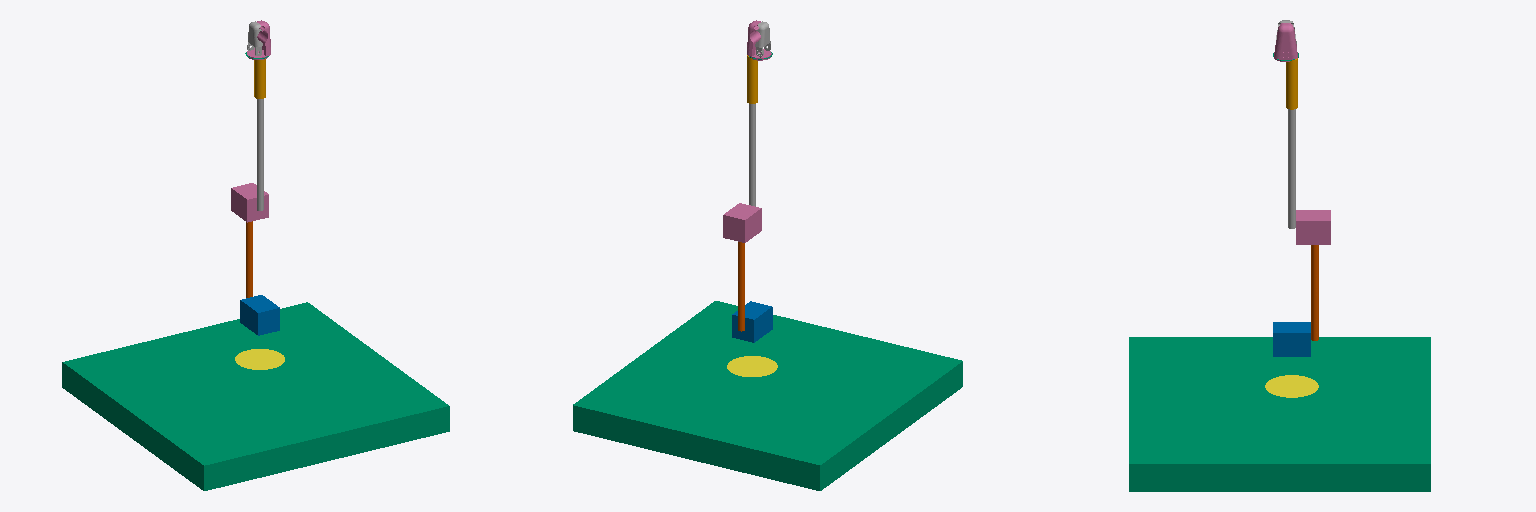
URDF robot description (arm):
<?xml version="1.0" ?>
<!-- =================================================================================== -->
<!-- |    This document was autogenerated by xacro from arm.urdf.xacro                 | -->
<!-- |    EDITING THIS FILE BY HAND IS NOT RECOMMENDED                                 | -->
<!-- =================================================================================== -->
<robot name="arm">
  <link name="world"/>
  <link name="flange"/>
  <joint name="fix_flange" type="fixed">
    <parent link="world"/>
    <child link="flange"/>
  </joint>

    <joint name="fix_colision" type="fixed">
        <parent link="world" />
        <child link="kalman_box" />        
    </joint>

    <link name="kalman_box">
        <visual>
            <geometry>
                <!-- <mesh filename="package://kalman_arm_moveit_config/meshes/gripper/gripper_bottom.stl" scale="0.001 0.001 0.001"/> -->
                <box size="1.0 1.0 0.1"/>
            </geometry>
        <origin rpy="0 0 0" xyz="-0.04 -0.04 -0.12"/>
        <material name="white"/>1
        </visual>
        <collision>
            <geometry>
                <box size="1.0 1.0 0.1"/>

            </geometry>
        <origin rpy="0 0 0" xyz="-0.04 -0.04 -0.12"/>
        </collision>
    </link>

    
  <link name="arm_link">
    <visual>
      <geometry>
        <cylinder length="0" radius="0.089"/>
      </geometry>
      <origin rpy="0 0 0" xyz="0 0 0.0"/>
    </visual>
    <collision>
      <geometry>
        <cylinder length="0" radius="0.089"/>
      </geometry>
      <origin rpy="0 0 0" xyz="0 0 0.0"/>
    </collision>
    <inertial>
      <mass value="0.1"/>
      <inertia ixx="0.03" ixy="0.0" ixz="0.0" iyy="0.03" iyz="0.0" izz="0.03"/>
    </inertial>
  </link>
  <link name="link1">
    <visual>
      <geometry>
        <box size="0.1275 0.089 0.089"/>
      </geometry>
      <origin rpy="0 0 0" xyz="0.0 0 0"/>
      <material name="white"/>
    </visual>
    <collision>
      <geometry>
        <box size="0.1275 0.089 0.089"/>
      </geometry>
      <origin rpy="0 0 0" xyz="0.0 0 0"/>
    </collision>
    <inertial>
      <mass value="0.1"/>
      <inertia ixx="0.03" ixy="0.0" ixz="0.0" iyy="0.03" iyz="0.0" izz="0.03"/>
    </inertial>
  </link>
  <joint name="joint_1" type="revolute">
    <axis xyz="0 0 1"/>
    <limit effort="1000.0" lower="-6.2815926" upper="6.2815926" velocity="0.5"/>
    <parent link="arm_link"/>
    <child link="link1"/>
    <origin rpy="0 0 1.570796" xyz="0 0 0.172"/>
  </joint>
  <link name="link2">
    <visual>
      <geometry>
        <cylinder length="0.41" radius="0.0125"/>
      </geometry>
      <origin rpy="0 0 0" xyz="0.076250 0 0.205"/>
      <material name="white"/>
    </visual>
    <collision>
      <geometry>
        <cylinder length="0.41" radius="0.0125"/>
      </geometry>
      <origin rpy="0 0 0" xyz="0.076250 0 0.205"/>
    </collision>
    <inertial>
      <mass value="0.1"/>
      <inertia ixx="0.03" ixy="0.0" ixz="0.0" iyy="0.03" iyz="0.0" izz="0.03"/>
    </inertial>
  </link>
  <joint name="joint_2" type="revolute">
    <axis xyz="1 0 0"/>
    <limit effort="1000.0" lower="-3.1415926" upper="3.1415926" velocity="0.5"/>
    <parent link="link1"/>
    <child link="link2"/>
    <origin xyz="0 0 0"/>
  </joint>
  <link name="link3">
    <visual>
      <geometry>
        <box size="0.115 0.089 0.089"/>
      </geometry>
      <origin rpy="0 0 0" xyz="0.07 0 0"/>
      <material name="white"/>
    </visual>
    <collision>
      <geometry>
        <box size="0.115 0.089 0.089"/>
      </geometry>
      <origin rpy="0 0 0" xyz="0.07 0 0"/>
    </collision>
    <inertial>
      <mass value="0.1"/>
      <inertia ixx="0.03" ixy="0.0" ixz="0.0" iyy="0.03" iyz="0.0" izz="0.03"/>
    </inertial>
  </link>
  <joint name="joint_3" type="revolute">
    <axis xyz="1 0 0"/>
    <limit effort="1000.0" lower="-2.88" upper="2.88" velocity="0.5"/>
    <parent link="link2"/>
    <child link="link3"/>
    <origin xyz="0 0 0.41"/>
  </joint>
  <link name="link4">
    <visual>
      <geometry>
        <cylinder length="0.44" radius="0.0125"/>
      </geometry>
      <origin rpy="0 0 0" xyz="0 0 0.22"/>
      <material name="white"/>
    </visual>
    <collision>
      <geometry>
        <cylinder length="0.44" radius="0.0125"/>
      </geometry>
      <origin rpy="0 0 0" xyz="0 0 0.22"/>
    </collision>
    <inertial>
      <mass value="0.1"/>
      <inertia ixx="0.03" ixy="0.0" ixz="0.0" iyy="0.03" iyz="0.0" izz="0.03"/>
    </inertial>
  </link>
  <joint name="joint_4" type="revolute">
    <axis xyz="0 0 1"/>
    <limit effort="1000.0" lower="-6.4" upper="6.4" velocity="0.5"/>
    <parent link="link3"/>
    <child link="link4"/>
  </joint>
  <link name="link5">
    <visual>
      <geometry>
        <cylinder length="0.18" radius="0.02"/>
      </geometry>
      <origin rpy="0 0 0" xyz="0 0 0"/>
      <material name="white"/>
    </visual>
    <collision>
      <geometry>
        <cylinder length="0.18" radius="0.02"/>
      </geometry>
      <origin rpy="0 0 0" xyz="0 0 0"/>
    </collision>
    <inertial>
      <mass value="0.1"/>
      <inertia ixx="0.03" ixy="0.0" ixz="0.0" iyy="0.03" iyz="0.0" izz="0.03"/>
    </inertial>
  </link>
  <joint name="joint_5" type="revolute">
    <axis xyz="1 0 0"/>
    <!-- 100 stopni -->
    <limit effort="1000.0" lower="-1.75" upper="1.75" velocity="0.5"/>
    <parent link="link5"/>
    <child link="link5_ext"/>
    <origin rpy="0 0 0" xyz="0 0 0.09"/>
  </joint>
  <link name="link5_ext">
    <visual>
      <geometry>
        <cylinder length="0.001" radius="0.001"/>
      </geometry>
      <origin rpy="0 0 0" xyz="0 0 0"/>
      <material name="white"/>
    </visual>
    <collision>
      <geometry>
        <cylinder length="0.001" radius="0.001"/>
      </geometry>
      <origin rpy="0 0 0" xyz="0 0 0"/>
    </collision>
    <inertial>
      <mass value="0.1"/>
      <inertia ixx="0.03" ixy="0.0" ixz="0.0" iyy="0.03" iyz="0.0" izz="0.03"/>
    </inertial>
  </link>
  <link name="link6">
    <visual>
      <geometry>
        <cylinder length="0.001" radius="0.0445"/>
      </geometry>
      <origin rpy="0 0 0" xyz="0 0 -0.0"/>
      <material name="white"/>
    </visual>
    <collision>
      <geometry>
        <cylinder length="0.01" radius="0.0445"/>
      </geometry>
      <origin rpy="0 0 0" xyz="0 0 -0.0"/>
    </collision>
    <inertial>
      <mass value="0.1"/>
      <inertia ixx="0.03" ixy="0.0" ixz="0.0" iyy="0.03" iyz="0.0" izz="0.03"/>
    </inertial>
  </link>
  <link name="link6_ext">

    </link>
  <link name="ee">
    </link>
  <link name="link6_to_gripper">

    </link>
  <joint name="joint_5_fix" type="fixed">
    <parent link="link4"/>
    <child link="link5"/>
    <origin rpy="0 0 0" xyz="0 0 0.53"/>
  </joint>
  <joint name="joint_6_fix" type="fixed">
    <parent link="link6"/>
    <child link="link6_ext"/>
    <origin rpy="-1.57 -1.57 0" xyz="0 0 0"/>
  </joint>
  <joint name="joint_6" type="revolute">
    <axis xyz="0 0 1"/>
    <limit effort="1000.0" lower="-3.4032" upper="3.4032" velocity="0.75"/>
    <parent link="link5_ext"/>
    <child link="link6"/>
    <!-- <origin rpy="0 0 0" xyz="0.15 0.20 0.0"/> -->
    <origin rpy="0 0 0" xyz="-0.02 0.02 0.0"/>
  </joint>
  <joint name="joint_6_to_gripper" type="fixed">
    <parent link="link6_ext"/>
    <child link="link6_to_gripper"/>
    <origin rpy="1.57 0 0" xyz="0 0 0"/>
  </joint>
  <link name="gripper_fixed">
    <visual>
      <geometry>
        <mesh filename="package://kalman_arm_moveit_config/meshes/gripper/gripper_bottom.stl" scale="0.001 0.001 0.001"/>
      </geometry>
      <origin rpy="0 0 0" xyz="-0.04 -0.04 -0.12"/>
      <material name="white"/>
    </visual>
    <collision>
      <geometry>
        <mesh filename="package://kalman_arm_moveit_config/meshes/gripper/gripper_bottom.stl" scale="0.001 0.001 0.001"/>
      </geometry>
      <origin rpy="0 0 0" xyz="-0.04 -0.04 -0.12"/>
    </collision>
    <inertial>
      <mass value="0.1"/>
      <inertia ixx="0.03" ixy="0.0" ixz="0.0" iyy="0.03" iyz="0.0" izz="0.03"/>
    </inertial>
  </link>
  <joint name="gripper_fixed_joint" type="fixed">
    <parent link="link6_to_gripper"/>
    <child link="gripper_fixed"/>
    <origin rpy="0 4.71238898 0" xyz="0 0 0"/>
  </joint>
  <joint name="ee_fixed_joint" type="fixed">
    <parent link="link6_ext"/>
    <child link="ee"/>
    <origin rpy="0 0 0" xyz="0.2 0 0"/>
  </joint>
  <link name="gripper_moving">
    <visual>
      <geometry>
        <mesh filename="package://kalman_arm_moveit_config/meshes/gripper/gripper_top.stl" scale="0.001 0.001 0.001"/>
      </geometry>
      <material name="white"/>
      <origin rpy="0 0 0" xyz="-0.014 -0.12 -0.035"/>
    </visual>
    <collision>
      <geometry>
        <mesh filename="package://kalman_arm_moveit_config/meshes/gripper/gripper_top.stl" scale="0.001 0.001 0.001"/>
      </geometry>
      <origin rpy="0 0 0" xyz="-0.014 -0.12 -0.035"/>
    </collision>
    <inertial>
      <mass value="0.1"/>
      <inertia ixx="0.03" ixy="0.0" ixz="0.0" iyy="0.03" iyz="0.0" izz="0.03"/>
    </inertial>
  </link>
  <joint name="gripper_moving_joint" type="revolute">
    <parent link="link6_to_gripper"/>
    <child link="gripper_moving"/>
    <axis xyz="0 0 1"/>
    <limit effort="1000.0" lower="-0.1" upper="1.57" velocity="0.5"/>
    <origin rpy="0 0 1.57079633" xyz="0.0 0.014 0"/>
  </joint>
  <joint name="fix" type="fixed">
    <parent link="flange"/>
    <child link="arm_link"/>
    <origin rpy="0 0 0"/>
  </joint>
  <transmission name="trans_joint_1">
    <type>transmission_interface/SimpleTransmission</type>
    <joint name="joint_1">
      <hardwareInterface>hardware_interface/PositionJointInterface</hardwareInterface>
    </joint>
    <actuator name="joint_1_motor">
      <hardwareInterface>hardware_interface/PositionJointInterface</hardwareInterface>
      <mechanicalReduction>1</mechanicalReduction>
    </actuator>
  </transmission>
  <transmission name="trans_joint_2">
    <type>transmission_interface/SimpleTransmission</type>
    <joint name="joint_2">
      <hardwareInterface>hardware_interface/PositionJointInterface</hardwareInterface>
    </joint>
    <actuator name="joint_2_motor">
      <hardwareInterface>hardware_interface/PositionJointInterface</hardwareInterface>
      <mechanicalReduction>1</mechanicalReduction>
    </actuator>
  </transmission>
  <transmission name="trans_joint_3">
    <type>transmission_interface/SimpleTransmission</type>
    <joint name="joint_3">
      <hardwareInterface>hardware_interface/PositionJointInterface</hardwareInterface>
    </joint>
    <actuator name="joint_3_motor">
      <hardwareInterface>hardware_interface/PositionJointInterface</hardwareInterface>
      <mechanicalReduction>1</mechanicalReduction>
    </actuator>
  </transmission>
  <transmission name="trans_joint_4">
    <type>transmission_interface/SimpleTransmission</type>
    <joint name="joint_4">
      <hardwareInterface>hardware_interface/PositionJointInterface</hardwareInterface>
    </joint>
    <actuator name="joint_4_motor">
      <hardwareInterface>hardware_interface/PositionJointInterface</hardwareInterface>
      <mechanicalReduction>1</mechanicalReduction>
    </actuator>
  </transmission>
  <transmission name="trans_joint_5">
    <type>transmission_interface/SimpleTransmission</type>
    <joint name="joint_5">
      <hardwareInterface>hardware_interface/PositionJointInterface</hardwareInterface>
    </joint>
    <actuator name="joint_5_motor">
      <hardwareInterface>hardware_interface/PositionJointInterface</hardwareInterface>
      <mechanicalReduction>1</mechanicalReduction>
    </actuator>
  </transmission>
  <transmission name="trans_joint_6">
    <type>transmission_interface/SimpleTransmission</type>
    <joint name="joint_6">
      <hardwareInterface>hardware_interface/PositionJointInterface</hardwareInterface>
    </joint>
    <actuator name="joint_6_motor">
      <hardwareInterface>hardware_interface/PositionJointInterface</hardwareInterface>
      <mechanicalReduction>1</mechanicalReduction>
    </actuator>
  </transmission>
  <transmission name="trans_gripper">
    <type>transmission_interface/SimpleTransmission</type>
    <joint name="gripper_moving_joint">
      <hardwareInterface>hardware_interface/PositionJointInterface</hardwareInterface>
    </joint>
    <actuator name="gripper_motor">
      <hardwareInterface>hardware_interface/PositionJointInterface</hardwareInterface>
      <mechanicalReduction>1</mechanicalReduction>
    </actuator>
  </transmission>
  <gazebo>
    <plugin filename="libgazebo_ros_control.so" name="gazebo_ros_control">
      <robotNamespace>/</robotNamespace>
    </plugin>
  </gazebo>
  <!-- <xacro:include filename="$(find kalman_arm_moveit_config)/urdf/gripper.urdf.xacro" /> -->
  <ros2_control name="kalman_arm" type="system">
    <hardware>
      <plugin>kalman_arm_controller/ArmSystem</plugin>
    </hardware>
    <joint name="joint_1">
      <command_interface name="position">
        <param name="min">{-2*pi}</param>
        <param name="max">{2*pi}</param>
      </command_interface>
      <command_interface name="velocity">
        <param name="min">-3.15</param>
        <param name="max">3.15</param>
      </command_interface>
      <state_interface name="position">
        <param name="initial_value">0.0</param>
      </state_interface>
      <state_interface name="velocity"/>
    </joint>
    <joint name="joint_2">
      <command_interface name="position">
        <param name="min">{-2*pi}</param>
        <param name="max">{2*pi}</param>
      </command_interface>
      <command_interface name="velocity">
        <param name="min">-3.15</param>
        <param name="max">3.15</param>
      </command_interface>
      <state_interface name="position">
        <param name="initial_value">0.0</param>
      </state_interface>
      <state_interface name="velocity"/>
    </joint>
    <joint name="joint_3">
      <command_interface name="position">
        <param name="min">{-pi}</param>
        <param name="max">{pi}</param>
      </command_interface>
      <command_interface name="velocity">
        <param name="min">-3.15</param>
        <param name="max">3.15</param>
      </command_interface>
      <state_interface name="position">
        <param name="initial_value">0.0</param>
      </state_interface>
      <state_interface name="velocity"/>
    </joint>
    <joint name="joint_4">
      <command_interface name="position">
        <param name="min">{-2*pi}</param>
        <param name="max">{2*pi}</param>
      </command_interface>
      <command_interface name="velocity">
        <param name="min">-3.2</param>
        <param name="max">3.2</param>
      </command_interface>
      <state_interface name="position">
        <param name="initial_value">0.0</param>
      </state_interface>
      <state_interface name="velocity"/>
    </joint>
    <joint name="joint_5">
      <command_interface name="position">
        <param name="min">{-2*pi}</param>
        <param name="max">{2*pi}</param>
      </command_interface>
      <command_interface name="velocity">
        <param name="min">-3.2</param>
        <param name="max">3.2</param>
      </command_interface>
      <state_interface name="position">
        <param name="initial_value">0.0</param>
      </state_interface>
      <state_interface name="velocity"/>
    </joint>
    <joint name="joint_6">
      <command_interface name="position">
        <param name="min">{-2*pi}</param>
        <param name="max">{2*pi}</param>
      </command_interface>
      <command_interface name="velocity">
        <param name="min">-3.2</param>
        <param name="max">3.2</param>
      </command_interface>
      <state_interface name="position">
        <param name="initial_value">0.0</param>
      </state_interface>
      <state_interface name="velocity"/>
    </joint>
    <joint name="gripper_moving_joint">
      <command_interface name="position">
        <param name="min">{-2*pi}</param>
        <param name="max">{2*pi}</param>
      </command_interface>
      <command_interface name="velocity">
        <param name="min">-3.2</param>
        <param name="max">3.2</param>
      </command_interface>
      <state_interface name="position">
        <param name="initial_value">0.0</param>
      </state_interface>
      <state_interface name="velocity"/>
    </joint>
    <!-- <sensor name="tcp_fts_sensor">
        <state_interface name="force.x"/>
        <state_interface name="force.y"/>
        <state_interface name="force.z"/>
        <state_interface name="torque.x"/>
        <state_interface name="torque.y"/>
        <state_interface name="torque.z"/>
      </sensor> -->
  </ros2_control>
</robot>

--- Render facts (derived) ---
The picture shows the robot from 3 angles, left to right: view 1: azimuth 30°, elevation 25°; view 2: azimuth 150°, elevation 25°; view 3: azimuth 270°, elevation 25°; orthographic projection.
Robot: arm — 16 links, 15 joints (7 revolute, 8 fixed); root link world; default pose: every joint at zero.
Links seen in each view (by area): view 1: kalman_box, link1, link3, arm_link, link4, link2; view 2: kalman_box, link3, link1, arm_link, link4, link2; view 3: kalman_box, link1, link3, arm_link, link4, link2, gripper_fixed, link5.
Boxes of the visible links, <box> form: kalman_box: <box>62,302,449,490</box>; link1: <box>240,295,279,335</box>; link3: <box>231,183,268,222</box>; arm_link: <box>235,349,284,369</box>; link4: <box>257,99,263,210</box>; link2: <box>246,221,252,297</box>; kalman_box: <box>573,301,962,490</box>; link3: <box>723,203,761,242</box>; link1: <box>732,301,772,342</box>; arm_link: <box>727,356,777,376</box>; link4: <box>749,104,755,206</box>; link2: <box>738,242,744,331</box>; kalman_box: <box>1129,337,1430,491</box>; link1: <box>1273,322,1310,356</box>; link3: <box>1296,210,1330,244</box>; arm_link: <box>1265,375,1318,397</box>; link4: <box>1288,109,1295,228</box>; link2: <box>1311,245,1318,340</box>; gripper_fixed: <box>1274,23,1297,61</box>; link5: <box>1286,58,1297,109</box>.
Bounding box of the posed robot: 1 × 1 × 1.49 m (x, y, z).
Meshes: 2 distinct files referenced, 2 mesh visuals loaded (2 binary STL).
